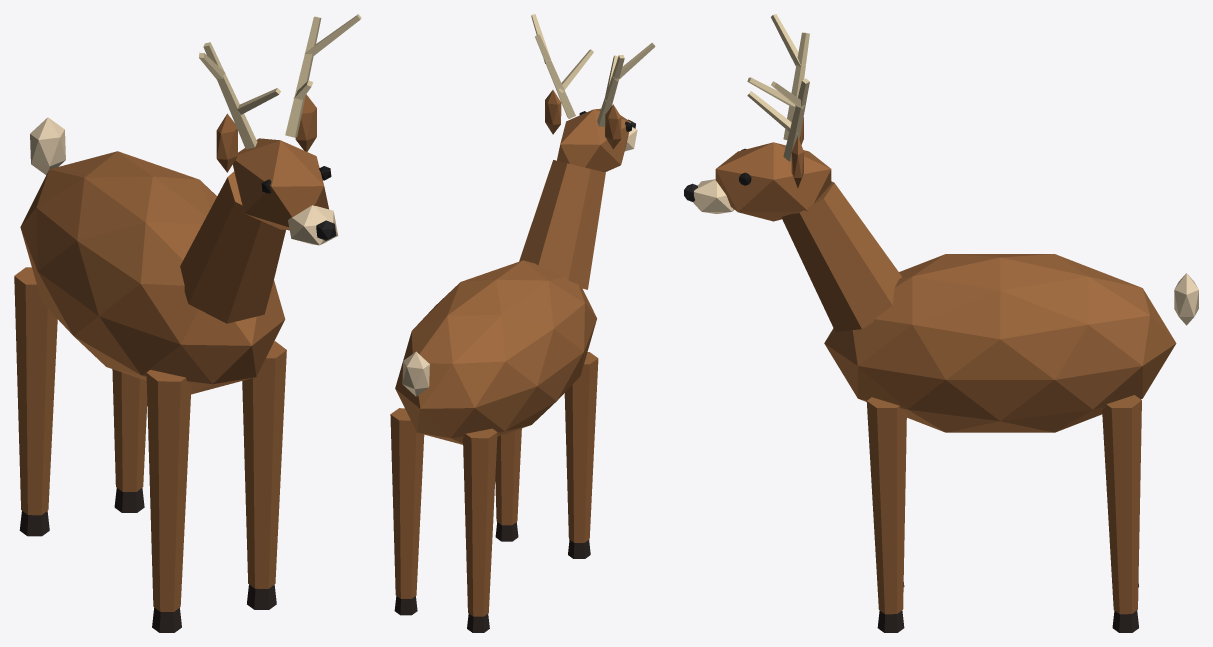
The model's file is deer.glb.
3 views of the same model, side by side, from view 1: azimuth 30°, elevation 25°; view 2: azimuth 150°, elevation 25°; view 3: azimuth 270°, elevation 25° (orthographic). The views are drawn at different scales.
Parts seen in each view (by area): view 1: body, head, leg_fr, leg_fl, leg_br, leg_bl, tail; view 2: body, head, leg_br, leg_bl, leg_fr, leg_fl, tail; view 3: body, head, leg_bl, leg_fl, tail.
Boxes of the visible parts, <box> form: body: <box>20,151,285,394</box>; head: <box>180,14,361,323</box>; leg_fr: <box>146,370,191,632</box>; leg_fl: <box>242,341,286,609</box>; leg_br: <box>14,267,57,536</box>; leg_bl: <box>112,369,147,512</box>; tail: <box>30,117,65,174</box>; body: <box>395,260,596,444</box>; head: <box>519,14,655,289</box>; leg_br: <box>463,428,497,632</box>; leg_bl: <box>390,408,424,615</box>; leg_fr: <box>564,352,598,558</box>; leg_fl: <box>495,428,521,541</box>; tail: <box>402,351,429,396</box>; body: <box>824,254,1176,432</box>; head: <box>684,14,901,331</box>; leg_bl: <box>1102,395,1141,632</box>; leg_fl: <box>866,397,906,632</box>; tail: <box>1174,273,1198,325</box>.
Bounding box in the file's own units: 0.428 × 1.52 × 1.27.
